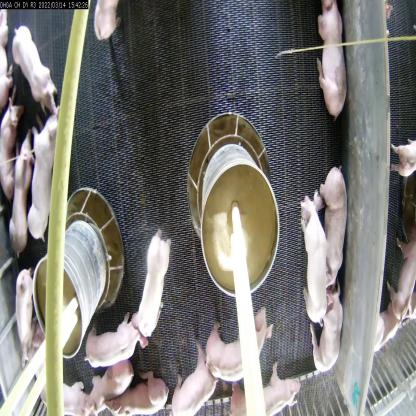Pig: (203, 305, 275, 384), (9, 21, 66, 115), (131, 228, 173, 348), (298, 189, 332, 334), (30, 109, 64, 247), (315, 0, 350, 124), (228, 361, 304, 416), (166, 336, 218, 416), (316, 162, 348, 291), (86, 310, 148, 367), (100, 369, 170, 415), (306, 292, 343, 378), (9, 128, 34, 254), (80, 362, 138, 414), (12, 266, 38, 364), (0, 91, 22, 203), (389, 237, 416, 324), (38, 375, 95, 415), (90, 0, 127, 46), (387, 125, 416, 178)
